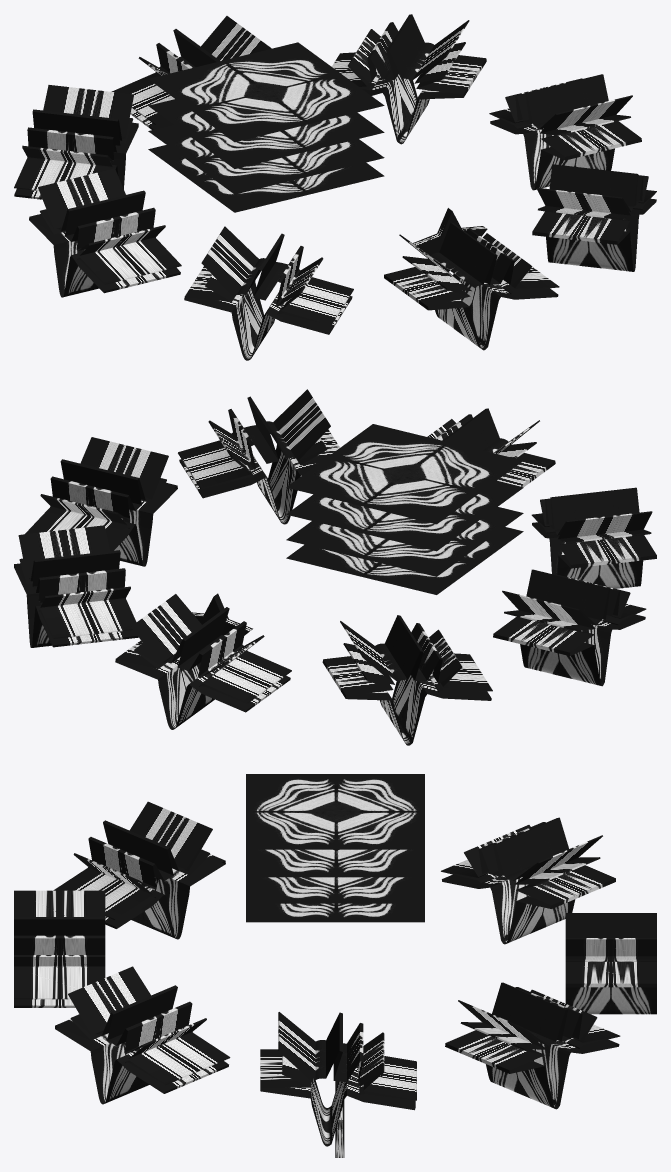
3 views of the same model, one above another, from view 1: azimuth 30°, elevation 25°; view 2: azimuth 150°, elevation 25°; view 3: azimuth 270°, elevation 25° (orthographic). The views are drawn at different scales.
Visible parts, largest first — view 1: no_alpha (×4), no_alpha.2, no_alpha.3, no_alpha.4, no_alpha.5, no_alpha.6, no_alpha.1, no_alpha.7, no_alpha.8, Cap_1; view 2: no_alpha (×4), no_alpha.8, no_alpha.7, no_alpha.6, no_alpha.2, no_alpha.1, no_alpha.5, no_alpha.3, no_alpha.4; view 3: no_alpha (×4), no_alpha.5, no_alpha.3, no_alpha.7, no_alpha.1, no_alpha.6, no_alpha.4, no_alpha.8.
Boxes of the visible parts, left/top/right/bottom form: no_alpha (×4): left=148, top=42, right=384, bottom=212; no_alpha.2: left=29, top=168, right=181, bottom=297; no_alpha.3: left=184, top=226, right=353, bottom=360; no_alpha.4: left=384, top=222, right=559, bottom=350; no_alpha.5: left=532, top=164, right=656, bottom=271; no_alpha.6: left=489, top=74, right=641, bottom=190; no_alpha.1: left=14, top=85, right=138, bottom=199; no_alpha.7: left=331, top=14, right=486, bottom=144; no_alpha.8: left=111, top=16, right=271, bottom=129; Cap_1: left=417, top=211, right=487, bottom=271; no_alpha (×4): left=286, top=424, right=523, bottom=594; no_alpha.8: left=115, top=594, right=291, bottom=729; no_alpha.7: left=14, top=525, right=138, bottom=647; no_alpha.6: left=25, top=437, right=177, bottom=566; no_alpha.2: left=493, top=569, right=646, bottom=686; no_alpha.1: left=322, top=615, right=492, bottom=745; no_alpha.5: left=178, top=389, right=339, bottom=524; no_alpha.3: left=531, top=487, right=656, bottom=588; no_alpha.4: left=427, top=408, right=555, bottom=487; no_alpha (×4): left=246, top=774, right=424, bottom=922; no_alpha.5: left=55, top=966, right=230, bottom=1104; no_alpha.3: left=53, top=801, right=225, bottom=939; no_alpha.7: left=445, top=982, right=620, bottom=1109; no_alpha.1: left=441, top=817, right=615, bottom=944; no_alpha.6: left=260, top=1012, right=416, bottom=1146; no_alpha.4: left=14, top=890, right=105, bottom=1007; no_alpha.8: left=565, top=913, right=656, bottom=1014.
Size of the model in its own units: 1438 by 596 by 1438.
1 material, 1 textured.
